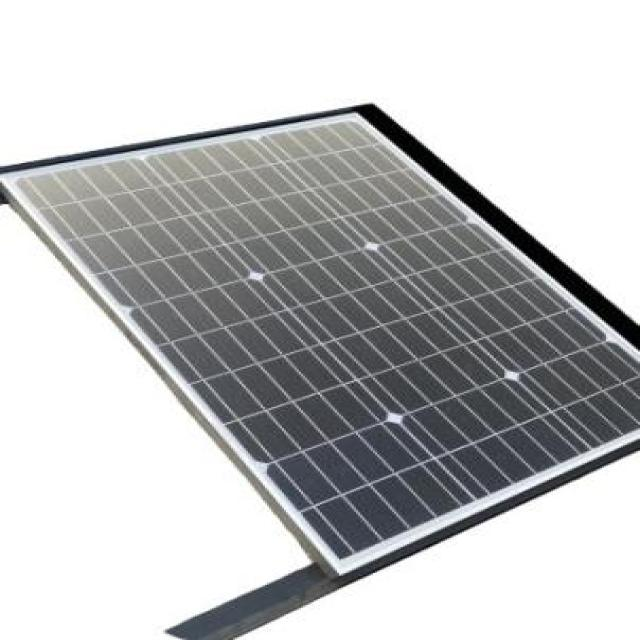clean-solar-panel: (3, 105, 638, 640)
